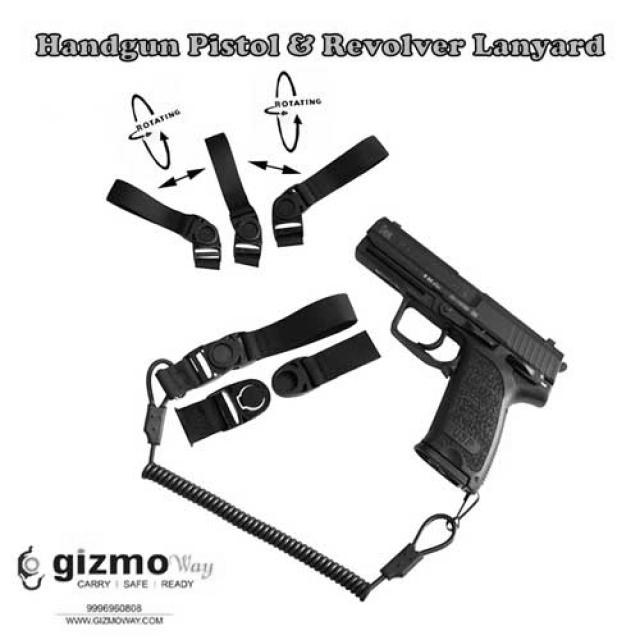Hand-Gun: (375, 191, 596, 511)
